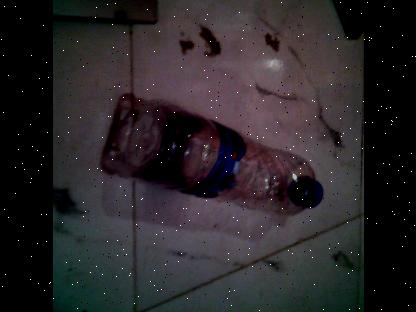Plastic Bottle: (103, 95, 322, 217)
